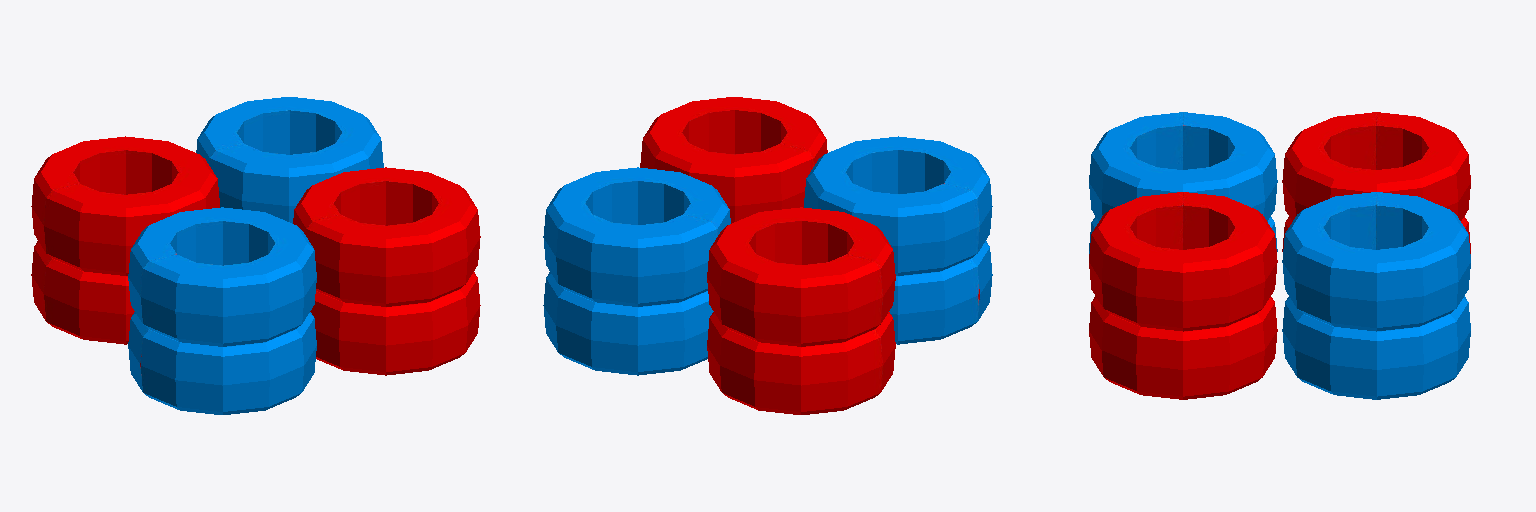
The picture shows the model from 3 angles: view 1: azimuth 30°, elevation 25°; view 2: azimuth 150°, elevation 25°; view 3: azimuth 270°, elevation 25°; orthographic projection.
Parts seen in each view (by area): view 1: Torus.005_Torus.026; view 2: Torus.005_Torus.026; view 3: Torus.005_Torus.026.
Boxes of the visible parts, box(x1,y1,x2,y2) form: Torus.005_Torus.026: box(31, 97, 480, 414); Torus.005_Torus.026: box(543, 97, 992, 414); Torus.005_Torus.026: box(1089, 112, 1470, 399).
Bounding box in the file's own units: 10 × 3.99 × 10.13.
1 materials, 1 textured.